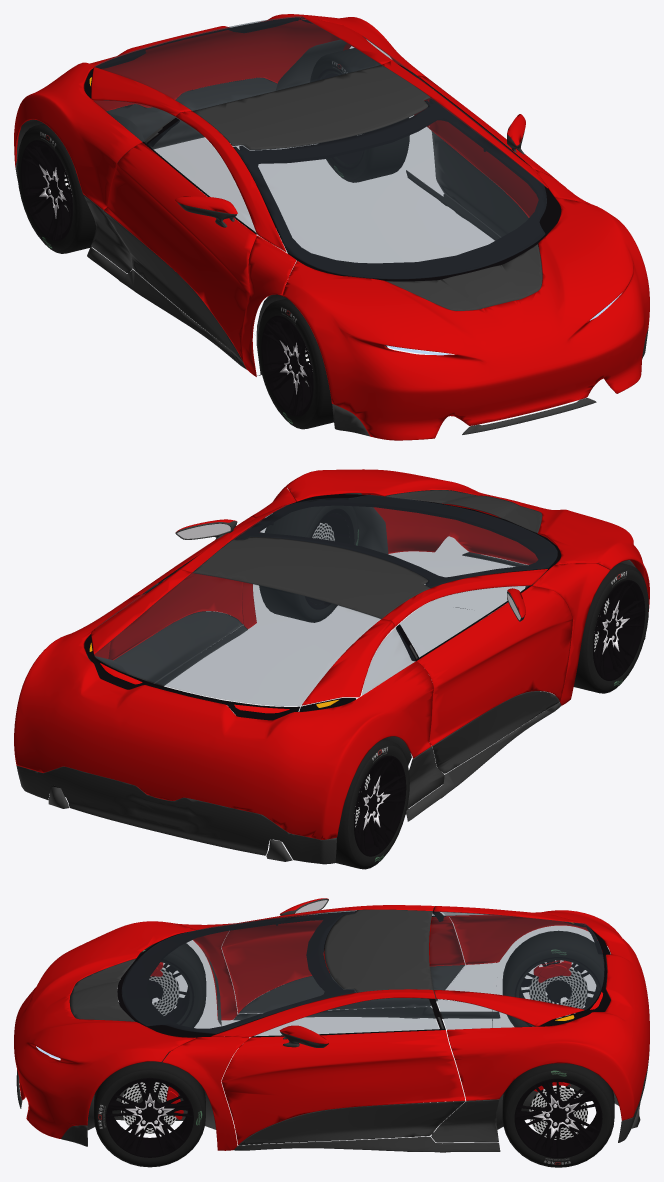
The model's file is concept-coupe.glb.
The picture shows the model from 3 angles, top to bottom: view 1: azimuth 30°, elevation 25°; view 2: azimuth 150°, elevation 25°; view 3: azimuth 270°, elevation 25°; orthographic projection. The views are drawn at different scales.
Parts seen in each view (by area): view 1: BodyHood, BodyWindshield, BodyRearPanelsColor1, BodyRearwindow, BodyDoorRColor1, BodyWindshieldGasket, BodyRoofPanel, BodyPanelsColor2, BodyPillars, BodyHoodTopgrill, BodyDoorLColor2, WheelFrontRRim (+11 smaller); view 2: BodyRearPanelsColor1, BodyRearwindow, BodyWindshield, BodyPanelsColor2, BodyDoorRColor1, BodyHood, BodyRoofPanel, BodyPillars, BodyWindshieldGasket, BodyDoorLColor1, BodyDoorLColor2, BodyDoorRColor2 (+11 smaller); view 3: BodyRearPanelsColor1, BodyWindshield, BodyDoorLColor1, BodyHood, BodyRearwindow, BodyPillars, BodyRoofPanel, BodyPanelsColor2, BodyDoorRColor1, BodyWindshieldGasket, BodyDoorLColor2, WheelFrontLRim (+19 smaller).
Part boxes in pixels (bbox=[...]): BodyHood: bbox=[282, 197, 649, 440]; BodyWindshield: bbox=[233, 98, 546, 278]; BodyRearPanelsColor1: bbox=[14, 14, 432, 210]; BodyRearwindow: bbox=[94, 16, 380, 110]; BodyDoorRColor1: bbox=[104, 142, 256, 361]; BodyWindshieldGasket: bbox=[233, 99, 561, 281]; BodyRoofPanel: bbox=[193, 65, 430, 149]; BodyPanelsColor2: bbox=[15, 77, 648, 436]; BodyPillars: bbox=[175, 61, 595, 376]; BodyHoodTopgrill: bbox=[386, 244, 542, 310]; BodyDoorLColor2: bbox=[432, 131, 528, 237]; WheelFrontRRim: bbox=[261, 315, 313, 416]; BodyRearPanelsColor1: bbox=[14, 569, 433, 839]; BodyRearwindow: bbox=[94, 572, 380, 705]; BodyWindshield: bbox=[233, 494, 557, 587]; BodyPanelsColor2: bbox=[16, 552, 645, 864]; BodyDoorRColor1: bbox=[416, 585, 572, 745]; BodyHood: bbox=[282, 469, 649, 611]; BodyRoofPanel: bbox=[192, 537, 430, 618]; BodyPillars: bbox=[178, 487, 610, 705]; BodyWindshieldGasket: bbox=[234, 494, 561, 587]; BodyDoorLColor1: bbox=[108, 516, 255, 660]; BodyDoorLColor2: bbox=[114, 611, 243, 683]; BodyDoorRColor2: bbox=[432, 691, 559, 773]; BodyRearPanelsColor1: bbox=[434, 906, 649, 1120]; BodyWindshield: bbox=[121, 910, 356, 1033]; BodyDoorLColor1: bbox=[221, 1030, 465, 1145]; BodyHood: bbox=[14, 921, 195, 1138]; BodyRearwindow: bbox=[430, 911, 604, 1009]; BodyPillars: bbox=[162, 905, 435, 1150]; BodyRoofPanel: bbox=[324, 909, 432, 992]; BodyPanelsColor2: bbox=[16, 962, 649, 1152]; BodyDoorRColor1: bbox=[221, 916, 465, 1013]; BodyWindshieldGasket: bbox=[117, 911, 356, 1037]; BodyDoorLColor2: bbox=[239, 1101, 465, 1145]; WheelFrontLRim: bbox=[106, 1078, 193, 1157].
Size of the model in its own units: 2.34 by 1.15 by 4.36.
15 materials, 4 textured.
